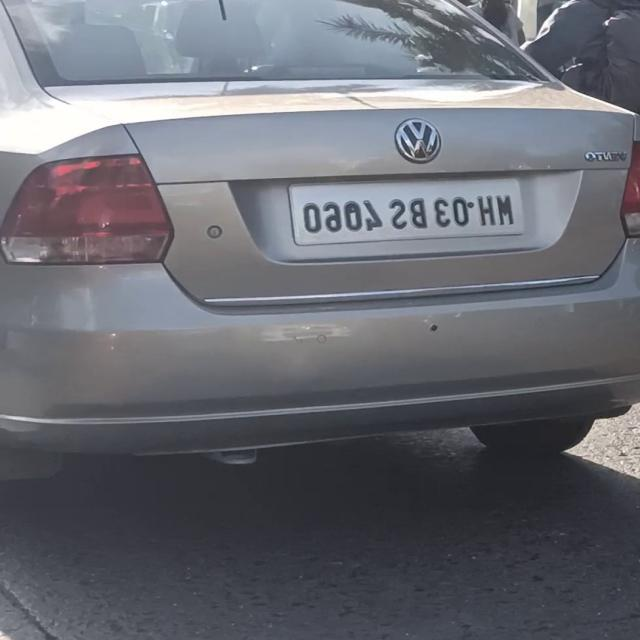license_plate: (284, 170, 532, 254)
